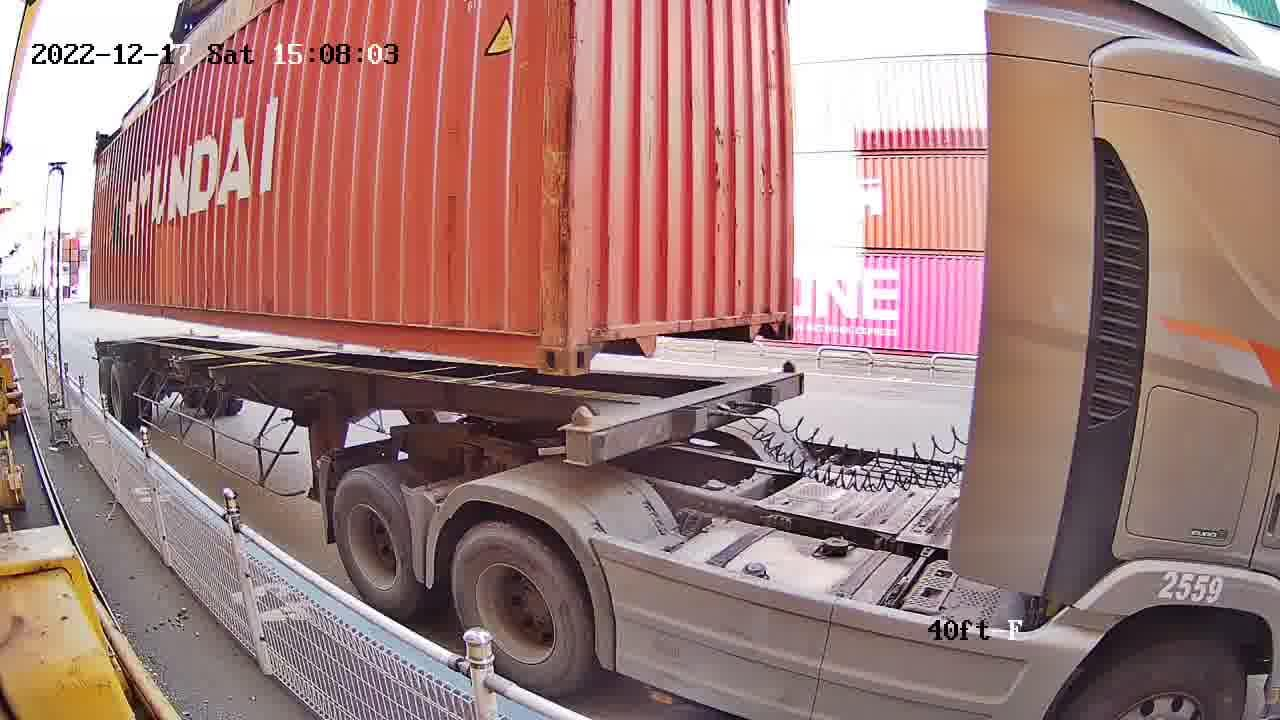Chassis: (571, 372, 802, 464)
Cone: (562, 403, 604, 465), (778, 358, 801, 391)
Hole_L: (573, 310, 631, 372)
Hole_R: (514, 310, 570, 375), (752, 281, 796, 343)
Tire: (455, 527, 593, 689), (331, 475, 414, 614)
